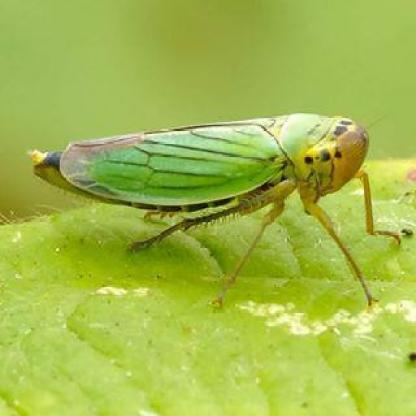green-leafhopper: (28, 113, 377, 244)
